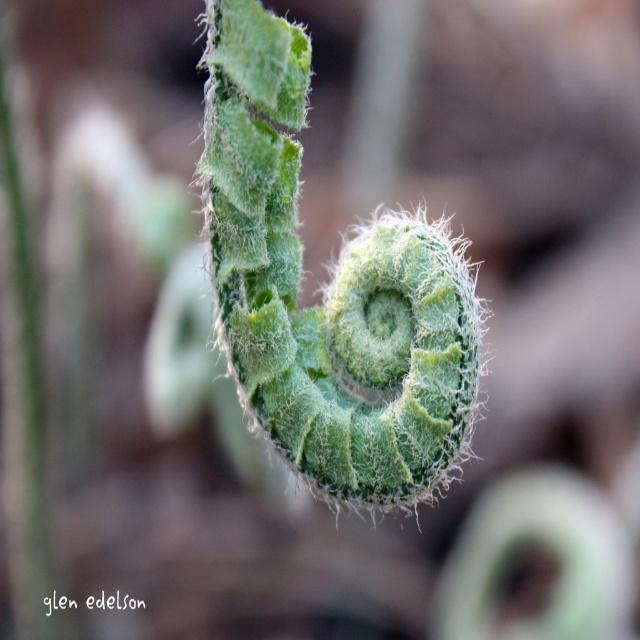Caterpillar: (194, 0, 493, 535)
